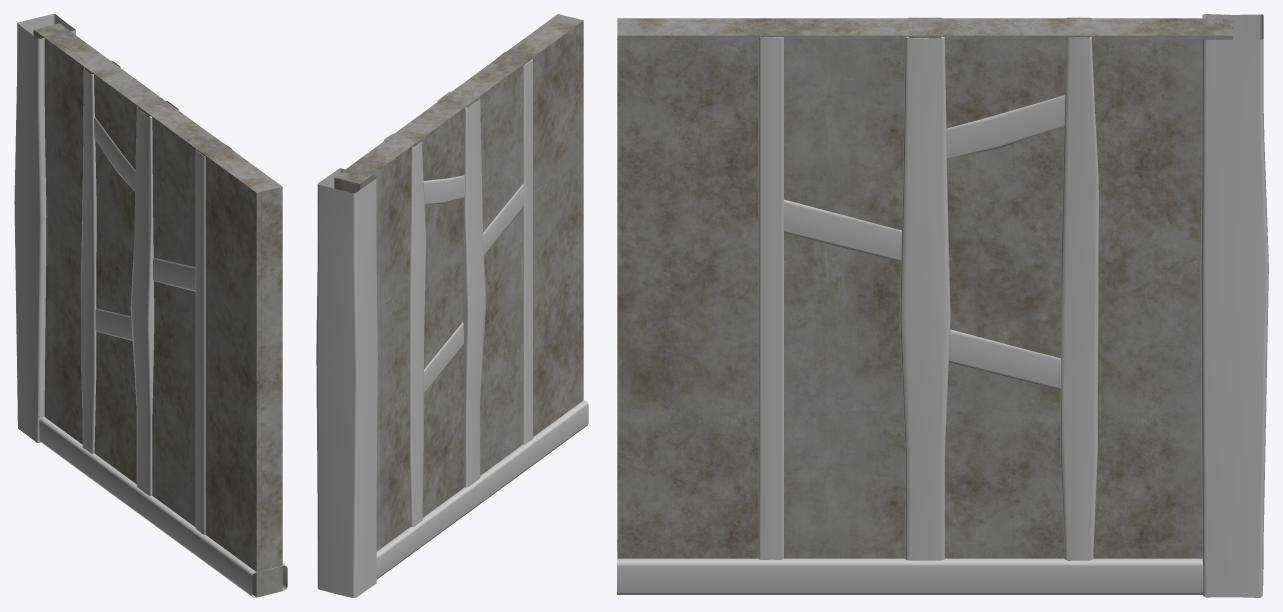
File: SM_Wall41.fbx
The picture shows the model from 3 angles, left to right: view 1: azimuth 30°, elevation 25°; view 2: azimuth 150°, elevation 25°; view 3: azimuth 270°, elevation 25°; orthographic projection. The views are drawn at different scales.
Visible parts, largest first — view 1: SM_Wall41_LOD0; view 2: SM_Wall41_LOD0; view 3: SM_Wall41_LOD0.
Boxes of the visible parts, x1,y1,x2,y2 form: SM_Wall41_LOD0: [14, 14, 287, 597]; SM_Wall41_LOD0: [316, 14, 588, 597]; SM_Wall41_LOD0: [617, 14, 1268, 597].
Bounding box in the file's own units: 33.47 × 318 × 300.
